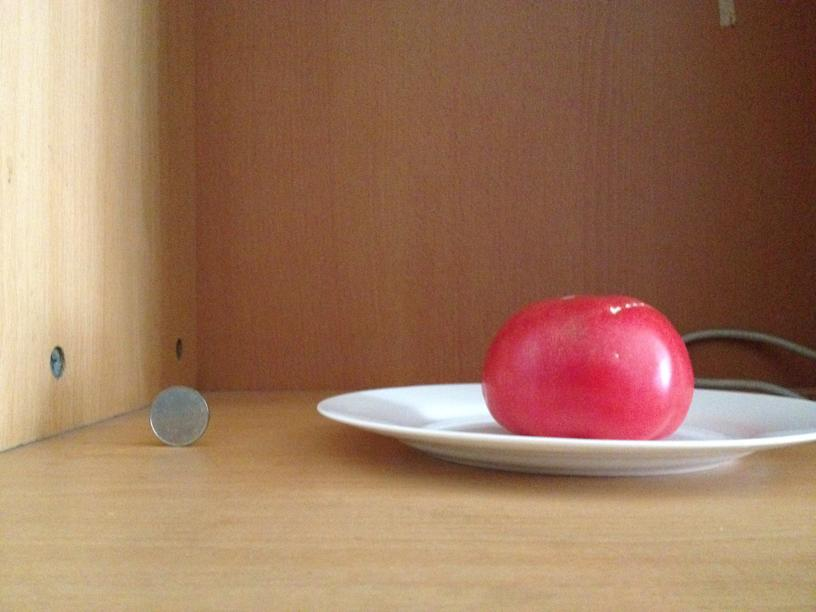coin: (144, 382, 212, 447)
tomato: (476, 289, 695, 443)
